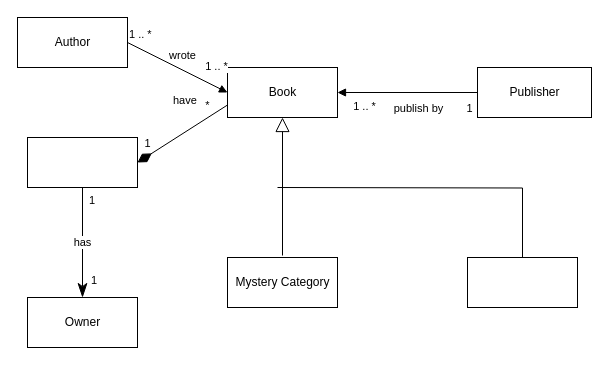
Some shapes in this 609 by 365 pixel diagram are drawn without their labels. The shapes that lost their labels are listed below. From the top down, each one's centre as x and y in pixels, then its label:
At pixel 82 162: "Library".
At pixel 522 282: "Fiction Category".
